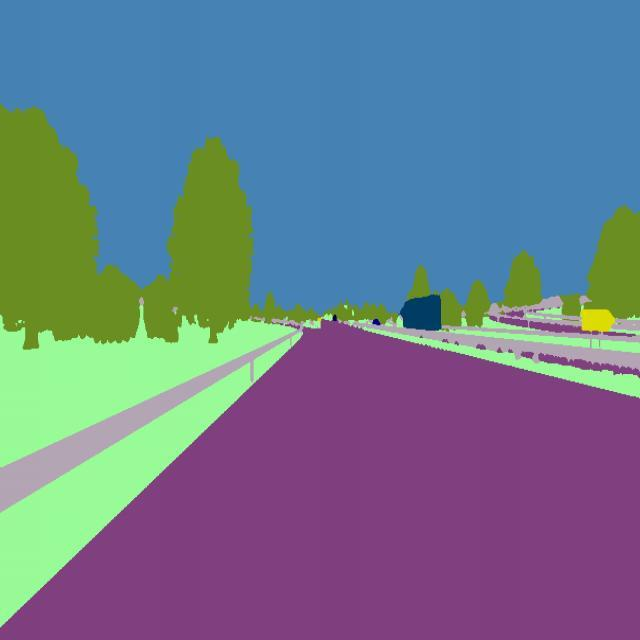safe: (400, 294, 444, 336)
